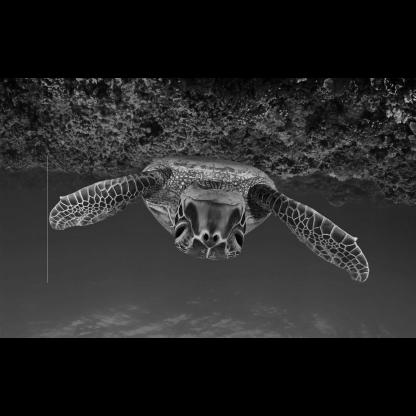turtle: (47, 154, 372, 282)
